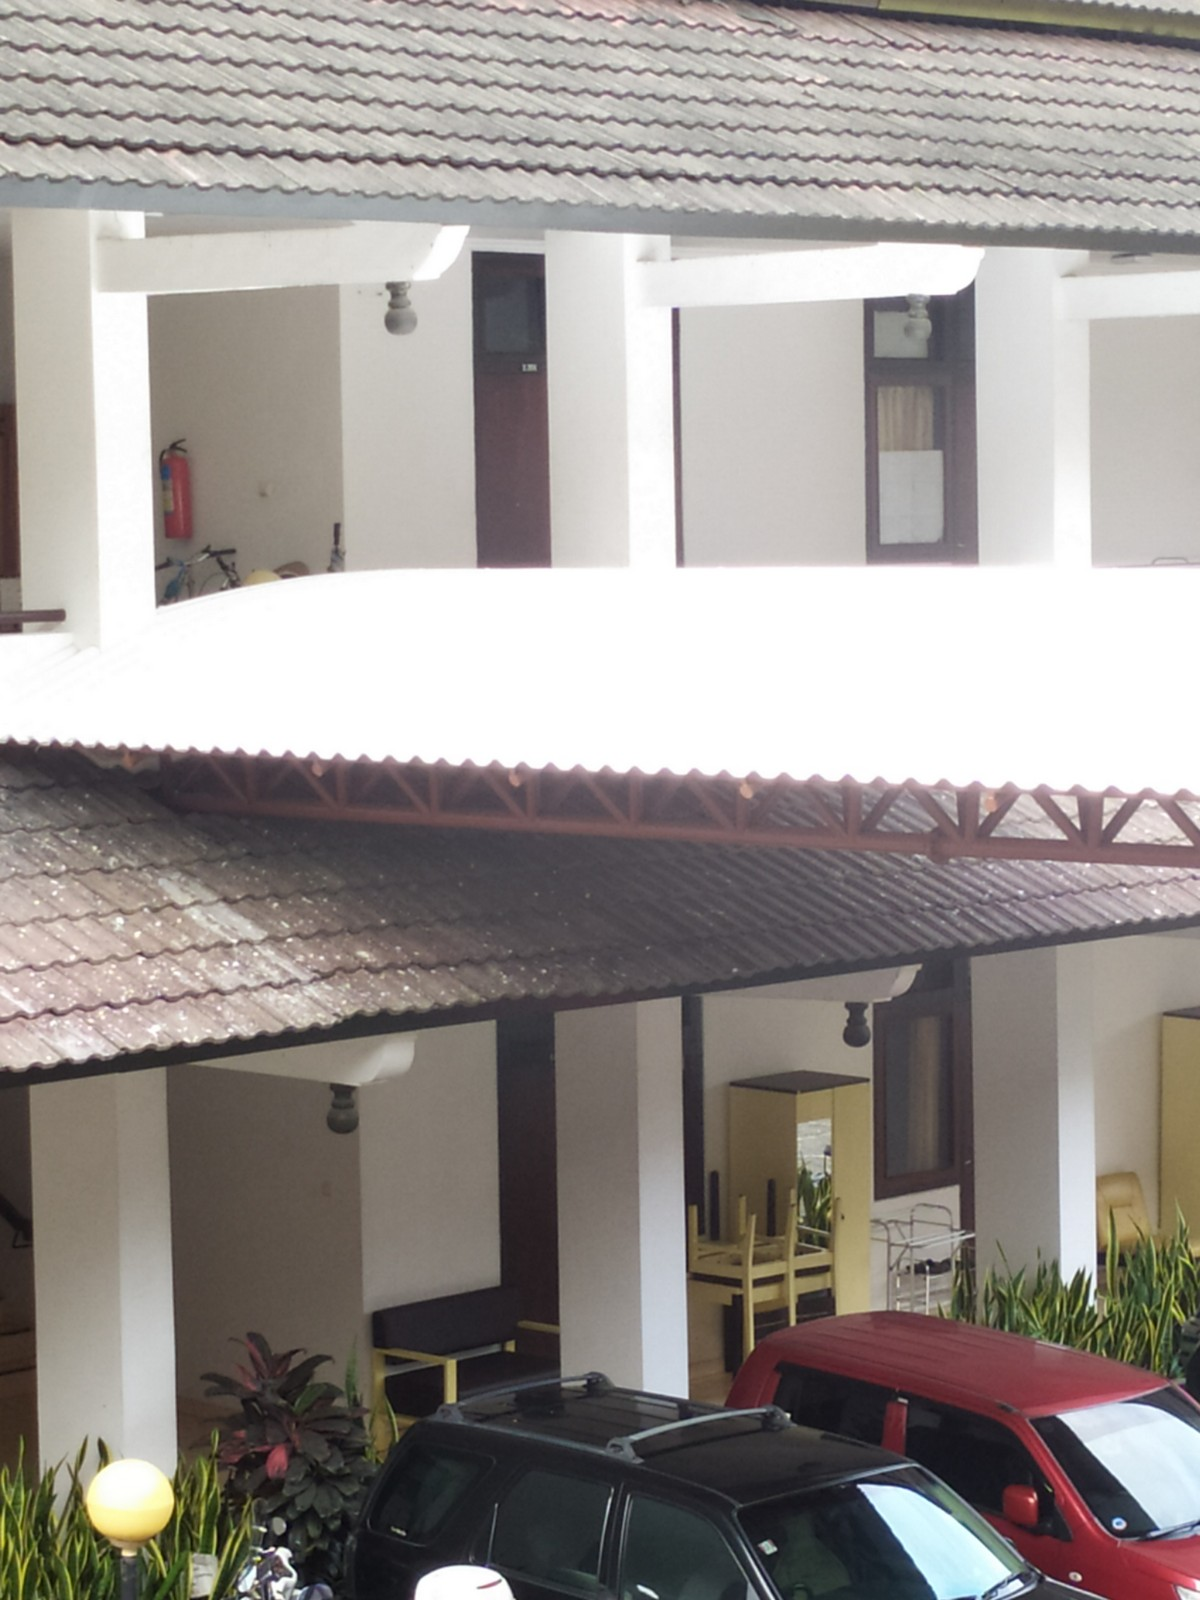concrete column: (23, 1070, 192, 1500), (1, 213, 170, 643), (545, 1012, 696, 1393), (534, 232, 695, 581), (968, 951, 1117, 1311), (963, 253, 1100, 574)
